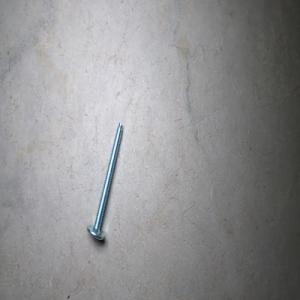Bolt: (85, 120, 123, 241)
